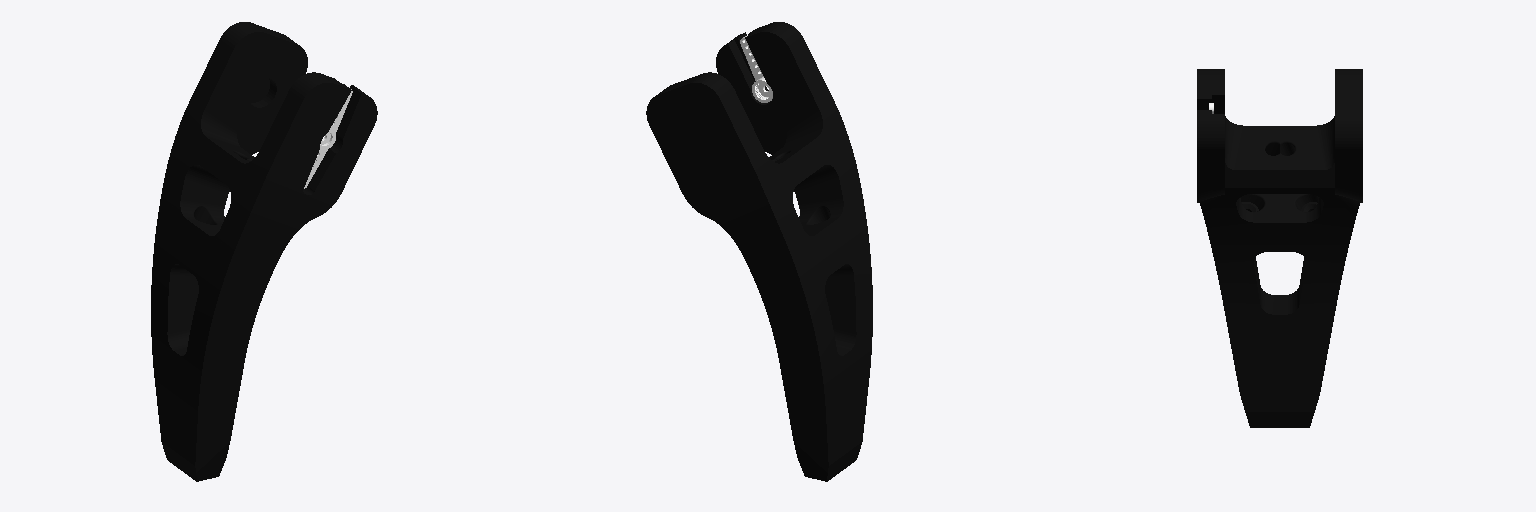
The model's file is LegLower.obj.
3 renders of one model, left to right at view 1: azimuth 30°, elevation 25°; view 2: azimuth 150°, elevation 25°; view 3: azimuth 270°, elevation 25°, orthographic.
Visible parts, largest first — view 1: LegLower, Body1; view 2: LegLower, Body1; view 3: LegLower.
Boxes of the visible parts, box(x1,y1,x2,y2) form: LegLower: box(151, 22, 377, 481); Body1: box(304, 89, 352, 188); LegLower: box(646, 22, 872, 481); Body1: box(740, 36, 772, 102); LegLower: box(1197, 69, 1362, 427).
Size of the model in its own units: 0.0525 by 0.1237 by 0.0475.